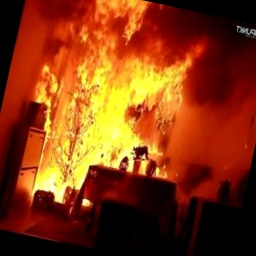fire: (0, 0, 245, 245)
